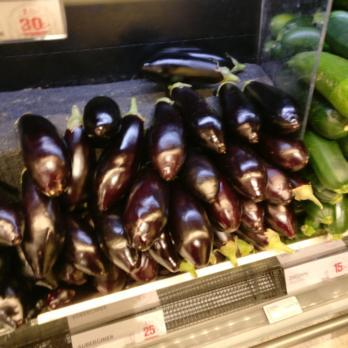Brinjal: (19, 98, 158, 278), (163, 85, 298, 254), (136, 40, 247, 83)
